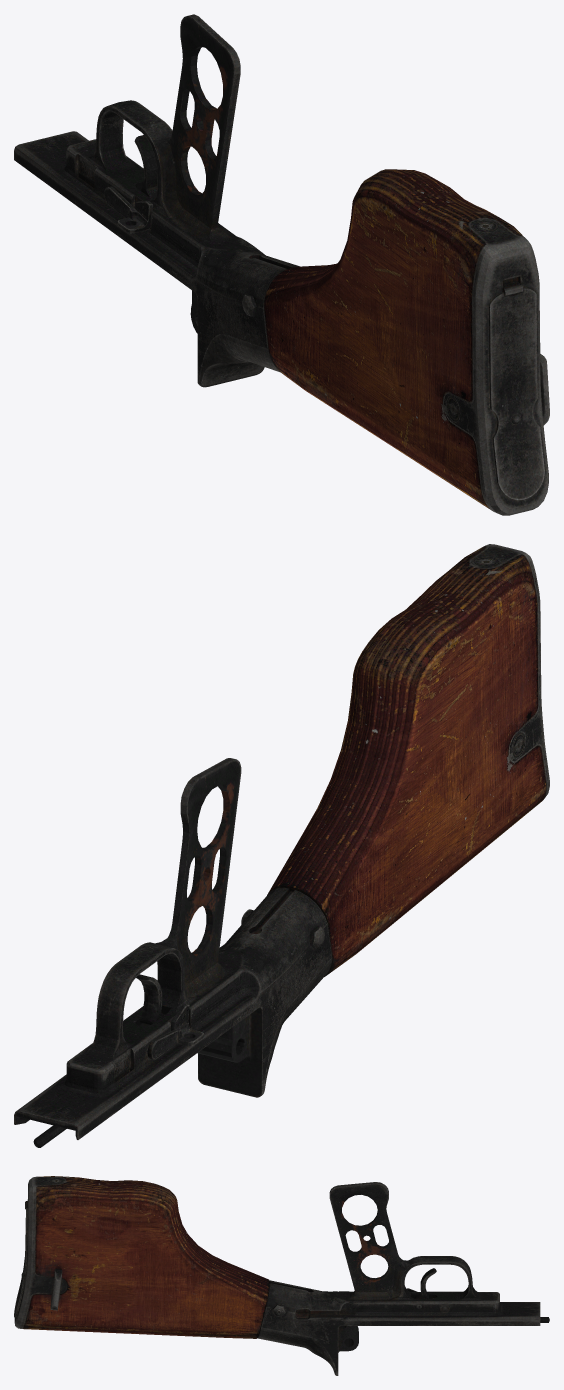
3 views of the same model, one above another, from view 1: azimuth 30°, elevation 25°; view 2: azimuth 150°, elevation 25°; view 3: azimuth 270°, elevation 25° (orthographic). The views are drawn at different scales.
Visible parts, largest first — view 1: TW_6513f1798cb24472490ee331_PZ_Import; view 2: TW_6513f1798cb24472490ee331_PZ_Import; view 3: TW_6513f1798cb24472490ee331_PZ_Import.
Boxes of the visible parts, <box> form: TW_6513f1798cb24472490ee331_PZ_Import: <box>14,14,549,515</box>; TW_6513f1798cb24472490ee331_PZ_Import: <box>14,544,549,1147</box>; TW_6513f1798cb24472490ee331_PZ_Import: <box>14,1176,549,1375</box>.
Bounding box in the file's own units: 0.0292 × 0.2452 × 0.0949.
1 material, 1 textured.
